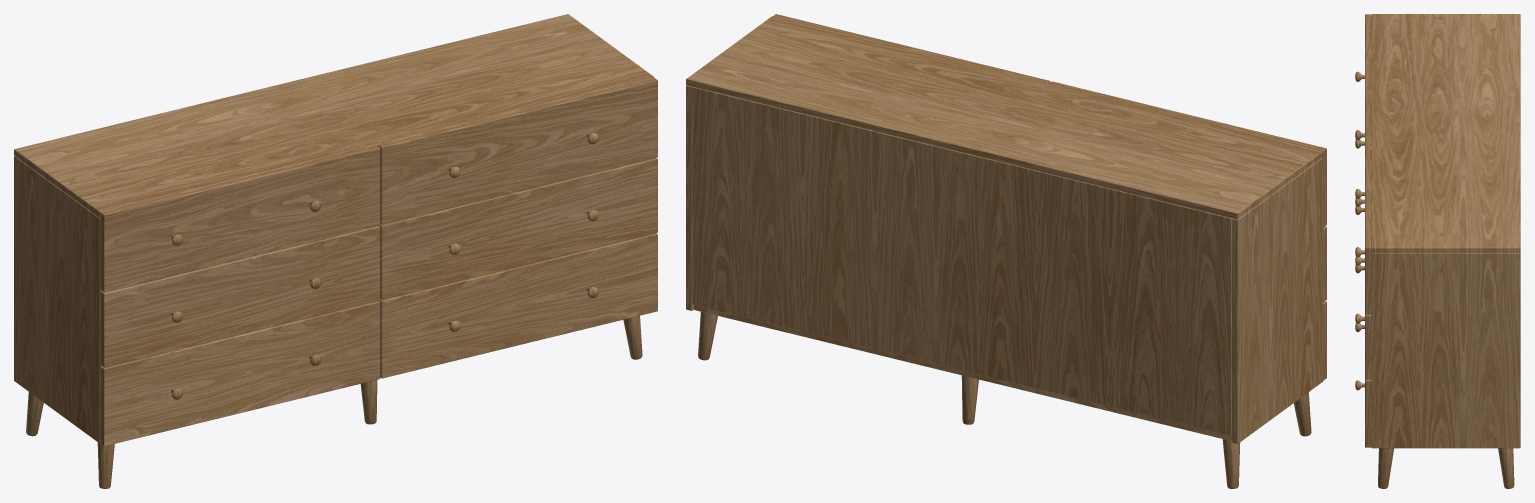
File: comoda_roble_160.glb
3 renders of one model, left to right at view 1: azimuth 30°, elevation 25°; view 2: azimuth 150°, elevation 25°; view 3: azimuth 270°, elevation 25°, orthographic. The views are drawn at different scales.
Parts seen in each view (by area): view 1: comoda_roble_160; view 2: comoda_roble_160; view 3: comoda_roble_160.
Boxes of the visible parts, box(x1,y1,x2,y2) form: comoda_roble_160: box(14, 14, 657, 488); comoda_roble_160: box(686, 14, 1326, 488); comoda_roble_160: box(1355, 14, 1520, 488).
Bounding box in the file's own units: 1.6 × 0.7811 × 0.478.
Materials: 1 (1 with a texture image).
